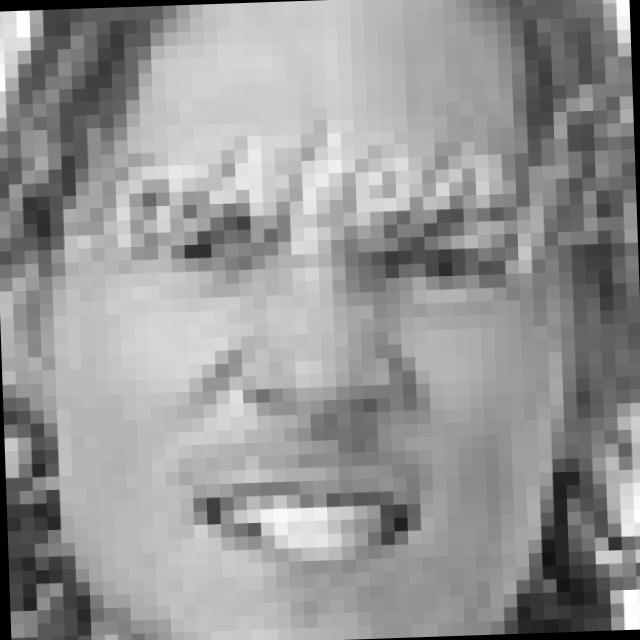angry: (118, 162, 528, 590)
